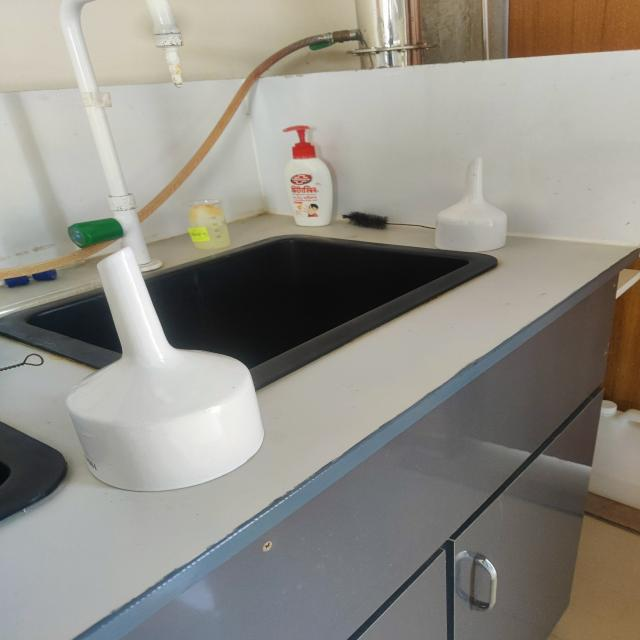Buchner_Funnel: (39, 223, 283, 506), (410, 142, 526, 274)
